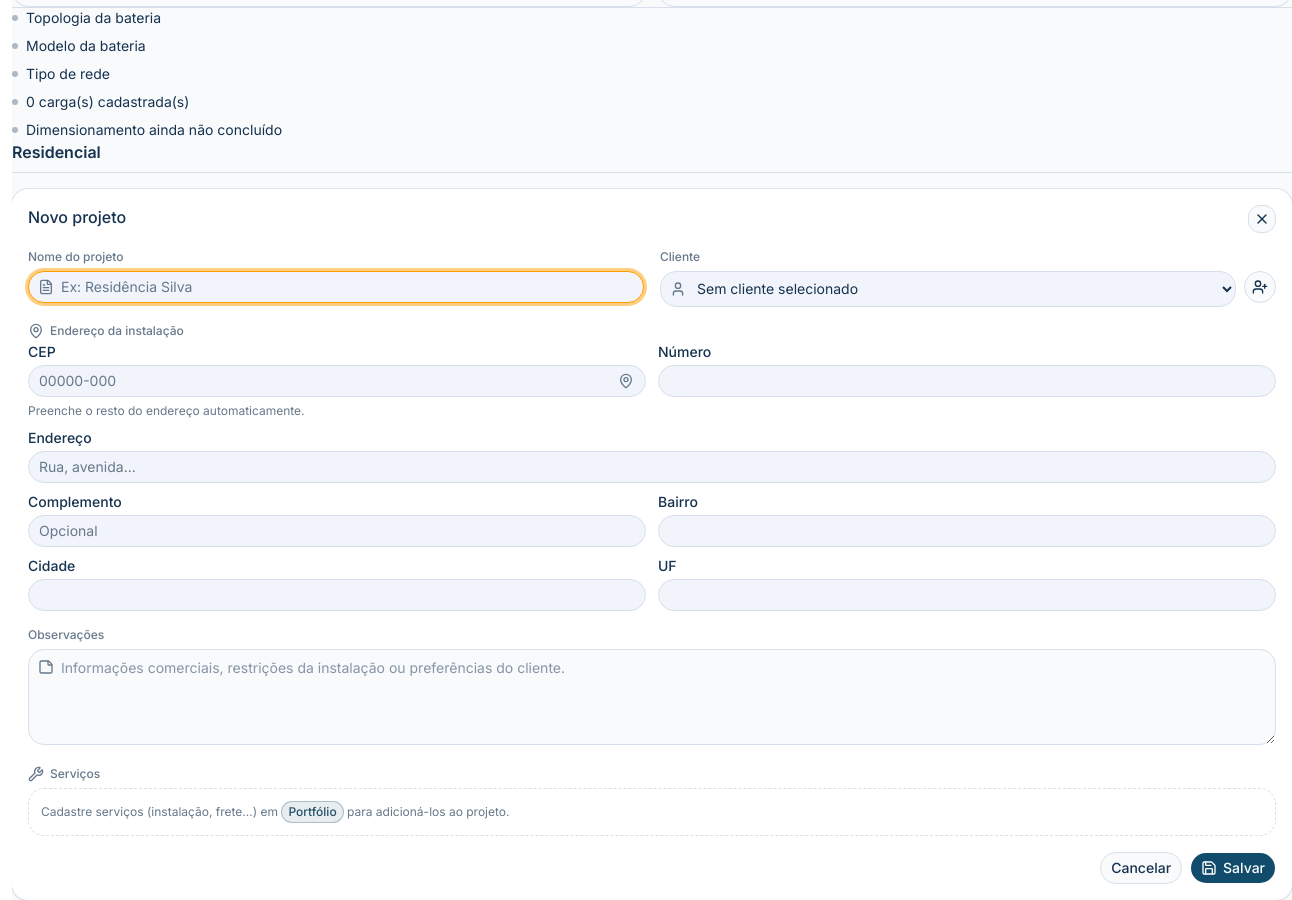
Test: ProjectTab: new project draft › blocks saving and shows an inline error when the name is empty
This screenshot has width=1292, height=900.
(page scrolled)
Click the button "Salvar": point(1233, 868) [1190,852,1276,884]
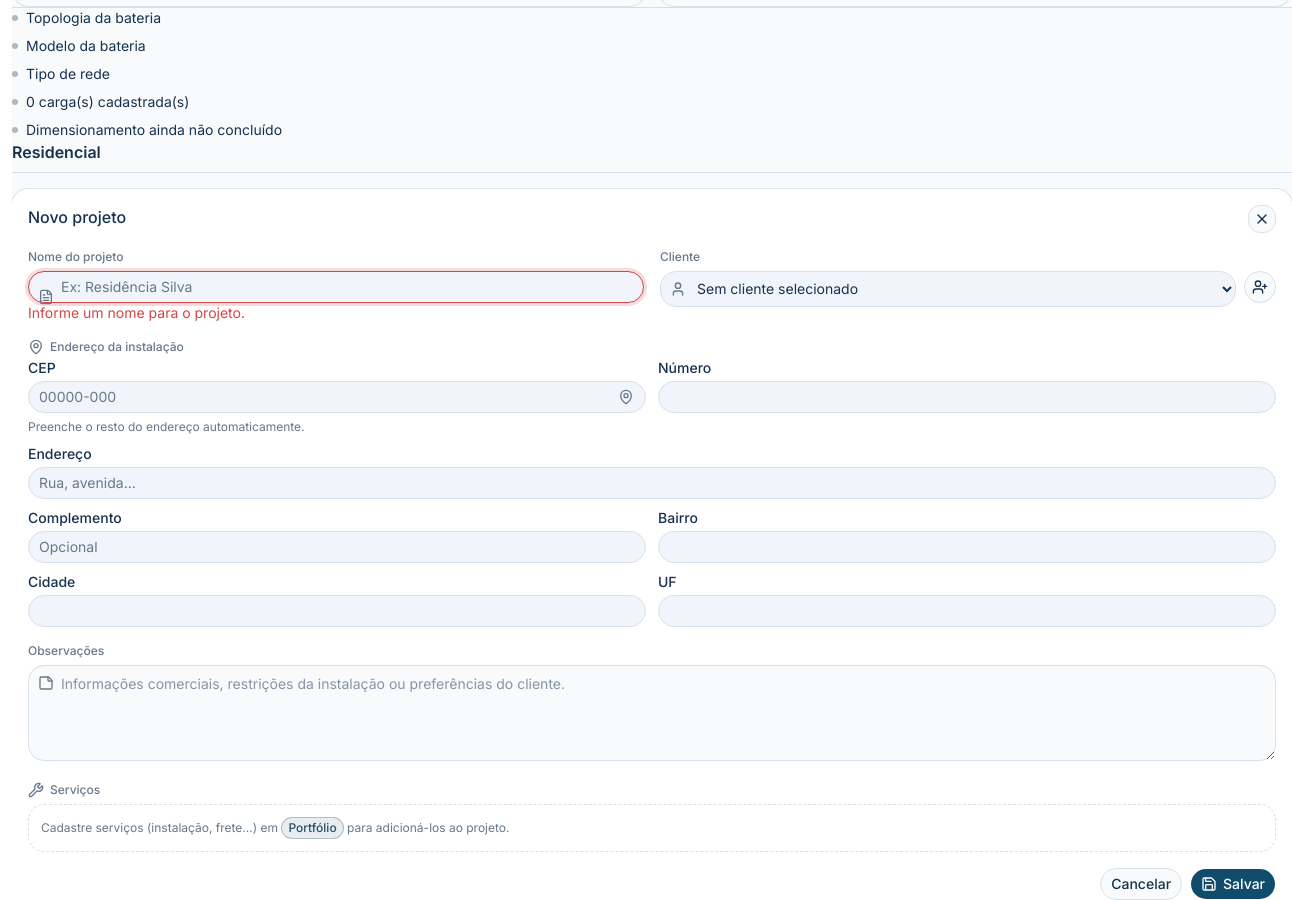
Expected: the text "Informe um nome para o projeto." is shown, [28,304,245,321]
